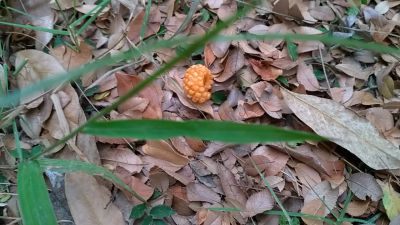eggs: (181, 61, 215, 107)
